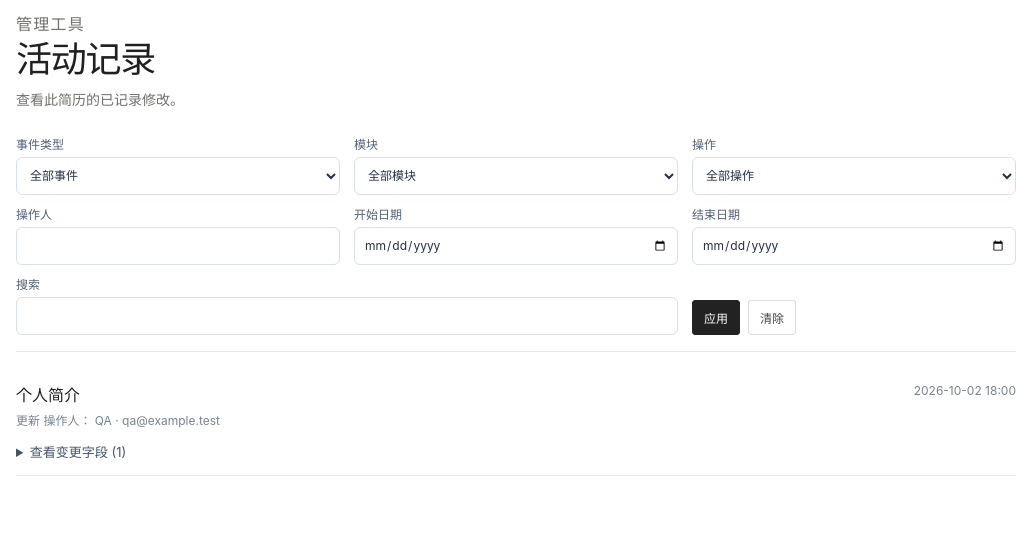
Test: Activity Log page › shows actor snapshots and only field-level before/after changes in Chinese
Expected: the heading "活动记录" is shown, [16, 37, 155, 81]
Expected: the text "更新 操作人： QA · qa@example.test" is shown, [16, 412, 220, 430]
Click the heading "查看变更字段 (1)" at (78, 452), box [30, 444, 126, 460]
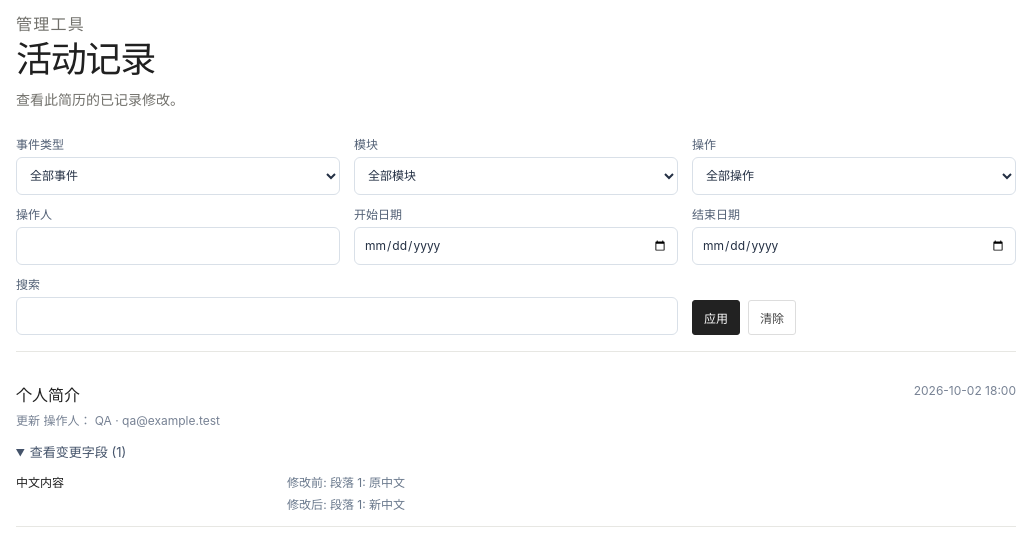
Result: the text "中文内容" is shown at [16, 475, 64, 490]
Result: the text "修改前: 段落 1: 原中文" is shown at [287, 475, 405, 490]
Result: the text "修改后: 段落 1: 新中文" is shown at [287, 497, 405, 512]
